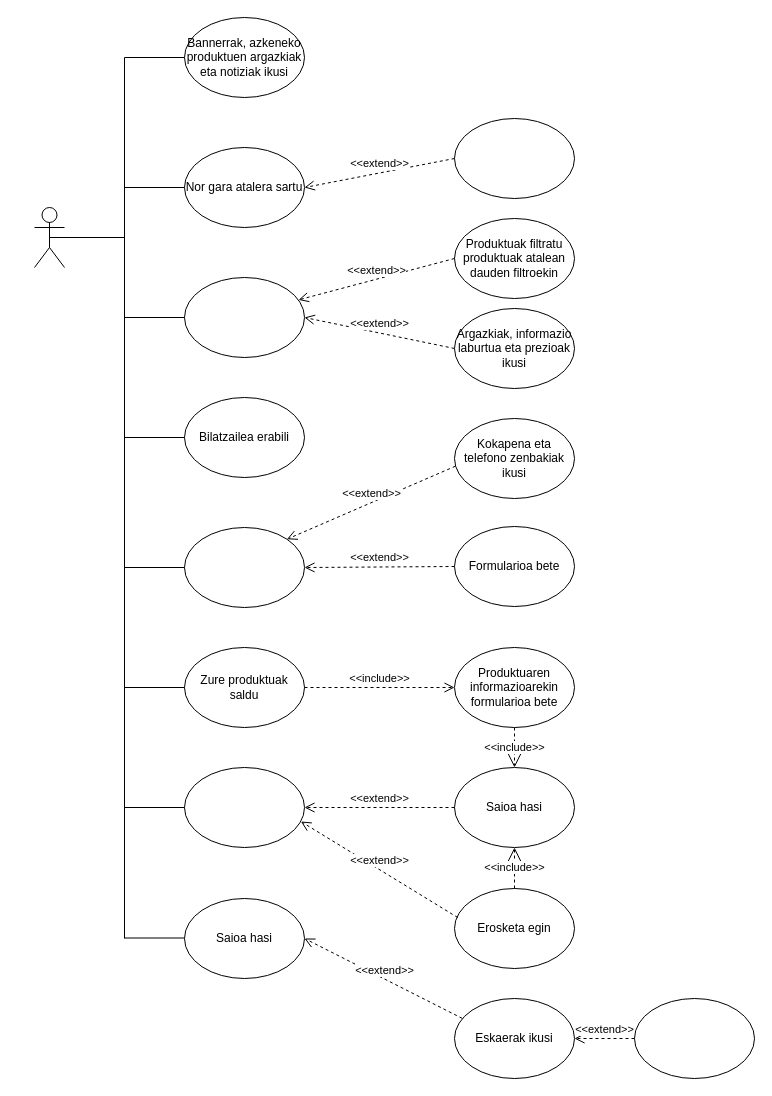
This 772x1096 diagram has some shape labels left out. The shapes that lost their labels are listed below. From the top down, each one's box as (x1, y1, x2, y2) in pixels, then its label:
(454, 118, 574, 198): Enpresaren historia, helburuak eta langileak ikusi
(34, 206, 64, 268): Erabiltzailea
(184, 276, 304, 358): Produktuen katalogoa ikusi
(184, 526, 304, 608): Enpresaren kontaktuak ikusi
(184, 766, 304, 848): Produktuak erosketa saskira sartu
(634, 998, 754, 1078): Faktura jaitsi
